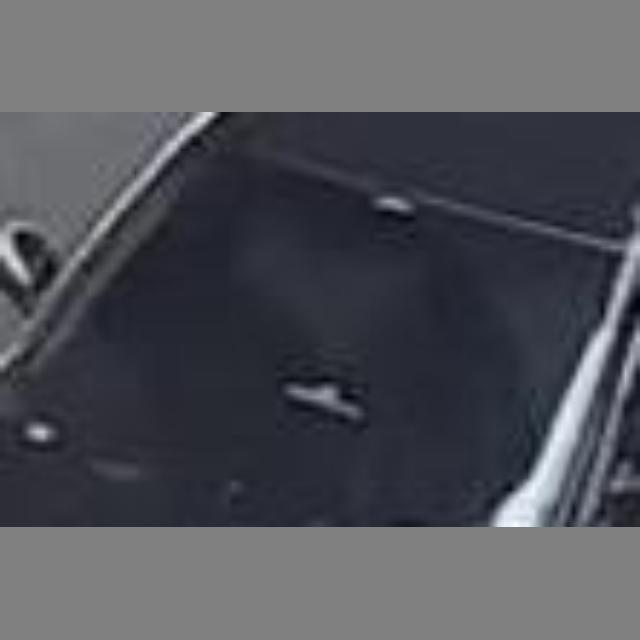tidak-pakai: (219, 204, 438, 446)
